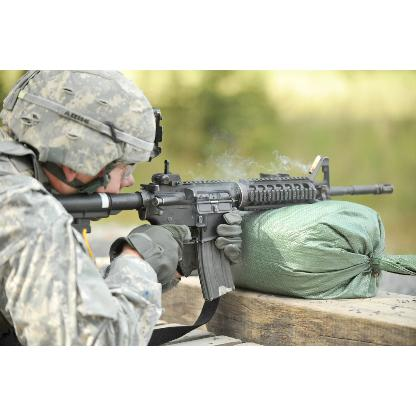gun: (52, 158, 392, 298)
